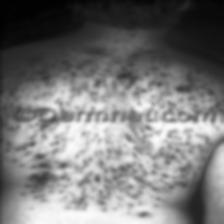Non-Cancerous Skin Condition: (88, 122, 196, 190), (0, 55, 72, 84), (28, 170, 52, 184), (118, 71, 128, 79), (127, 62, 132, 66)
